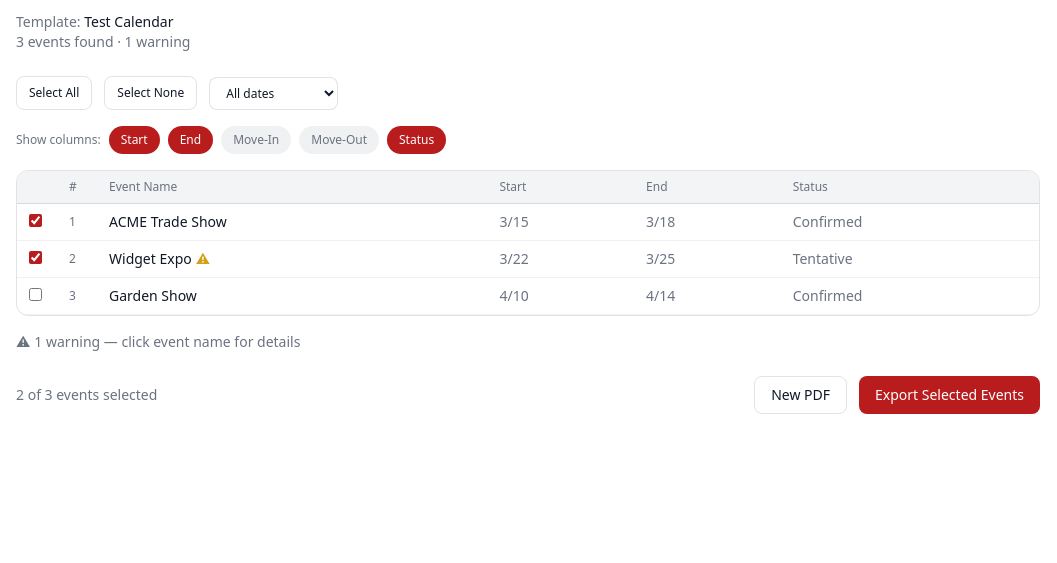
it: ResultsPage › collapses event detail on second click
Click the button "ACME Trade Show" at (168, 222), box x1=109 y1=212 x2=227 y2=232
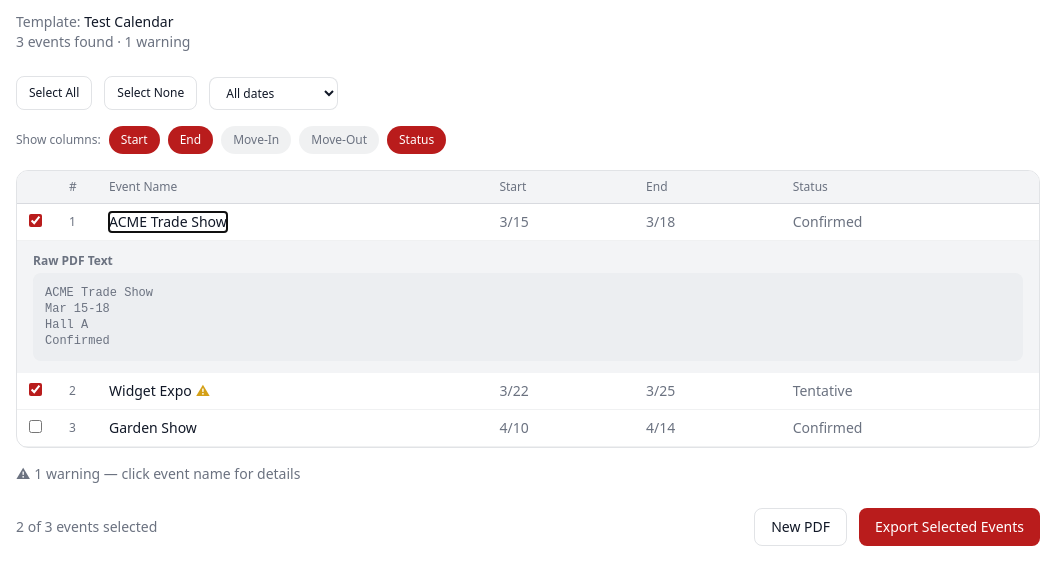
Check: the heading "Raw PDF Text" is shown, box x1=33 y1=252 x2=113 y2=269
Click the button "ACME Trade Show" at (168, 222), box x1=109 y1=212 x2=227 y2=232
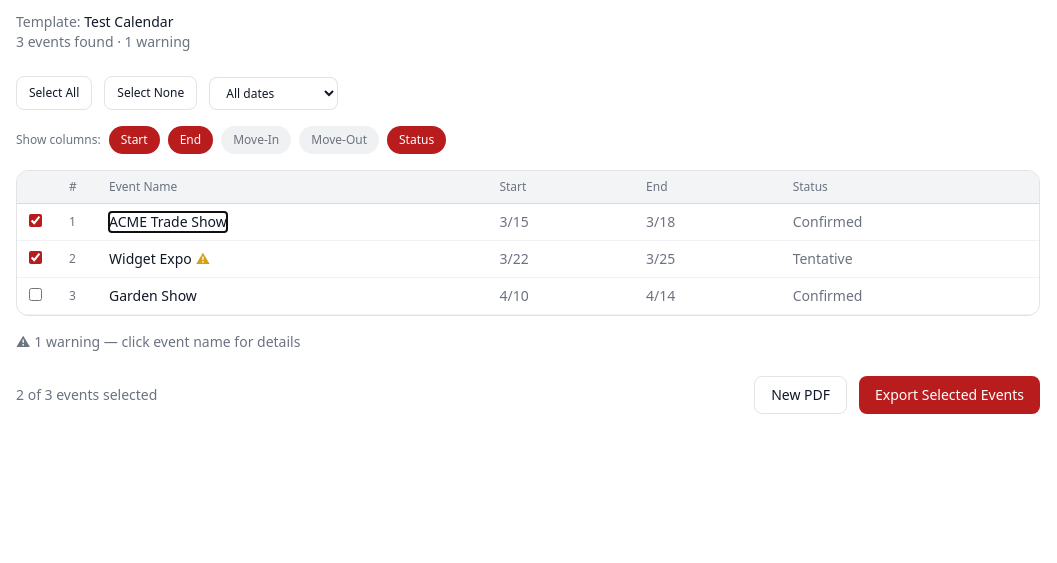
Check: the heading "Raw PDF Text" is gone
